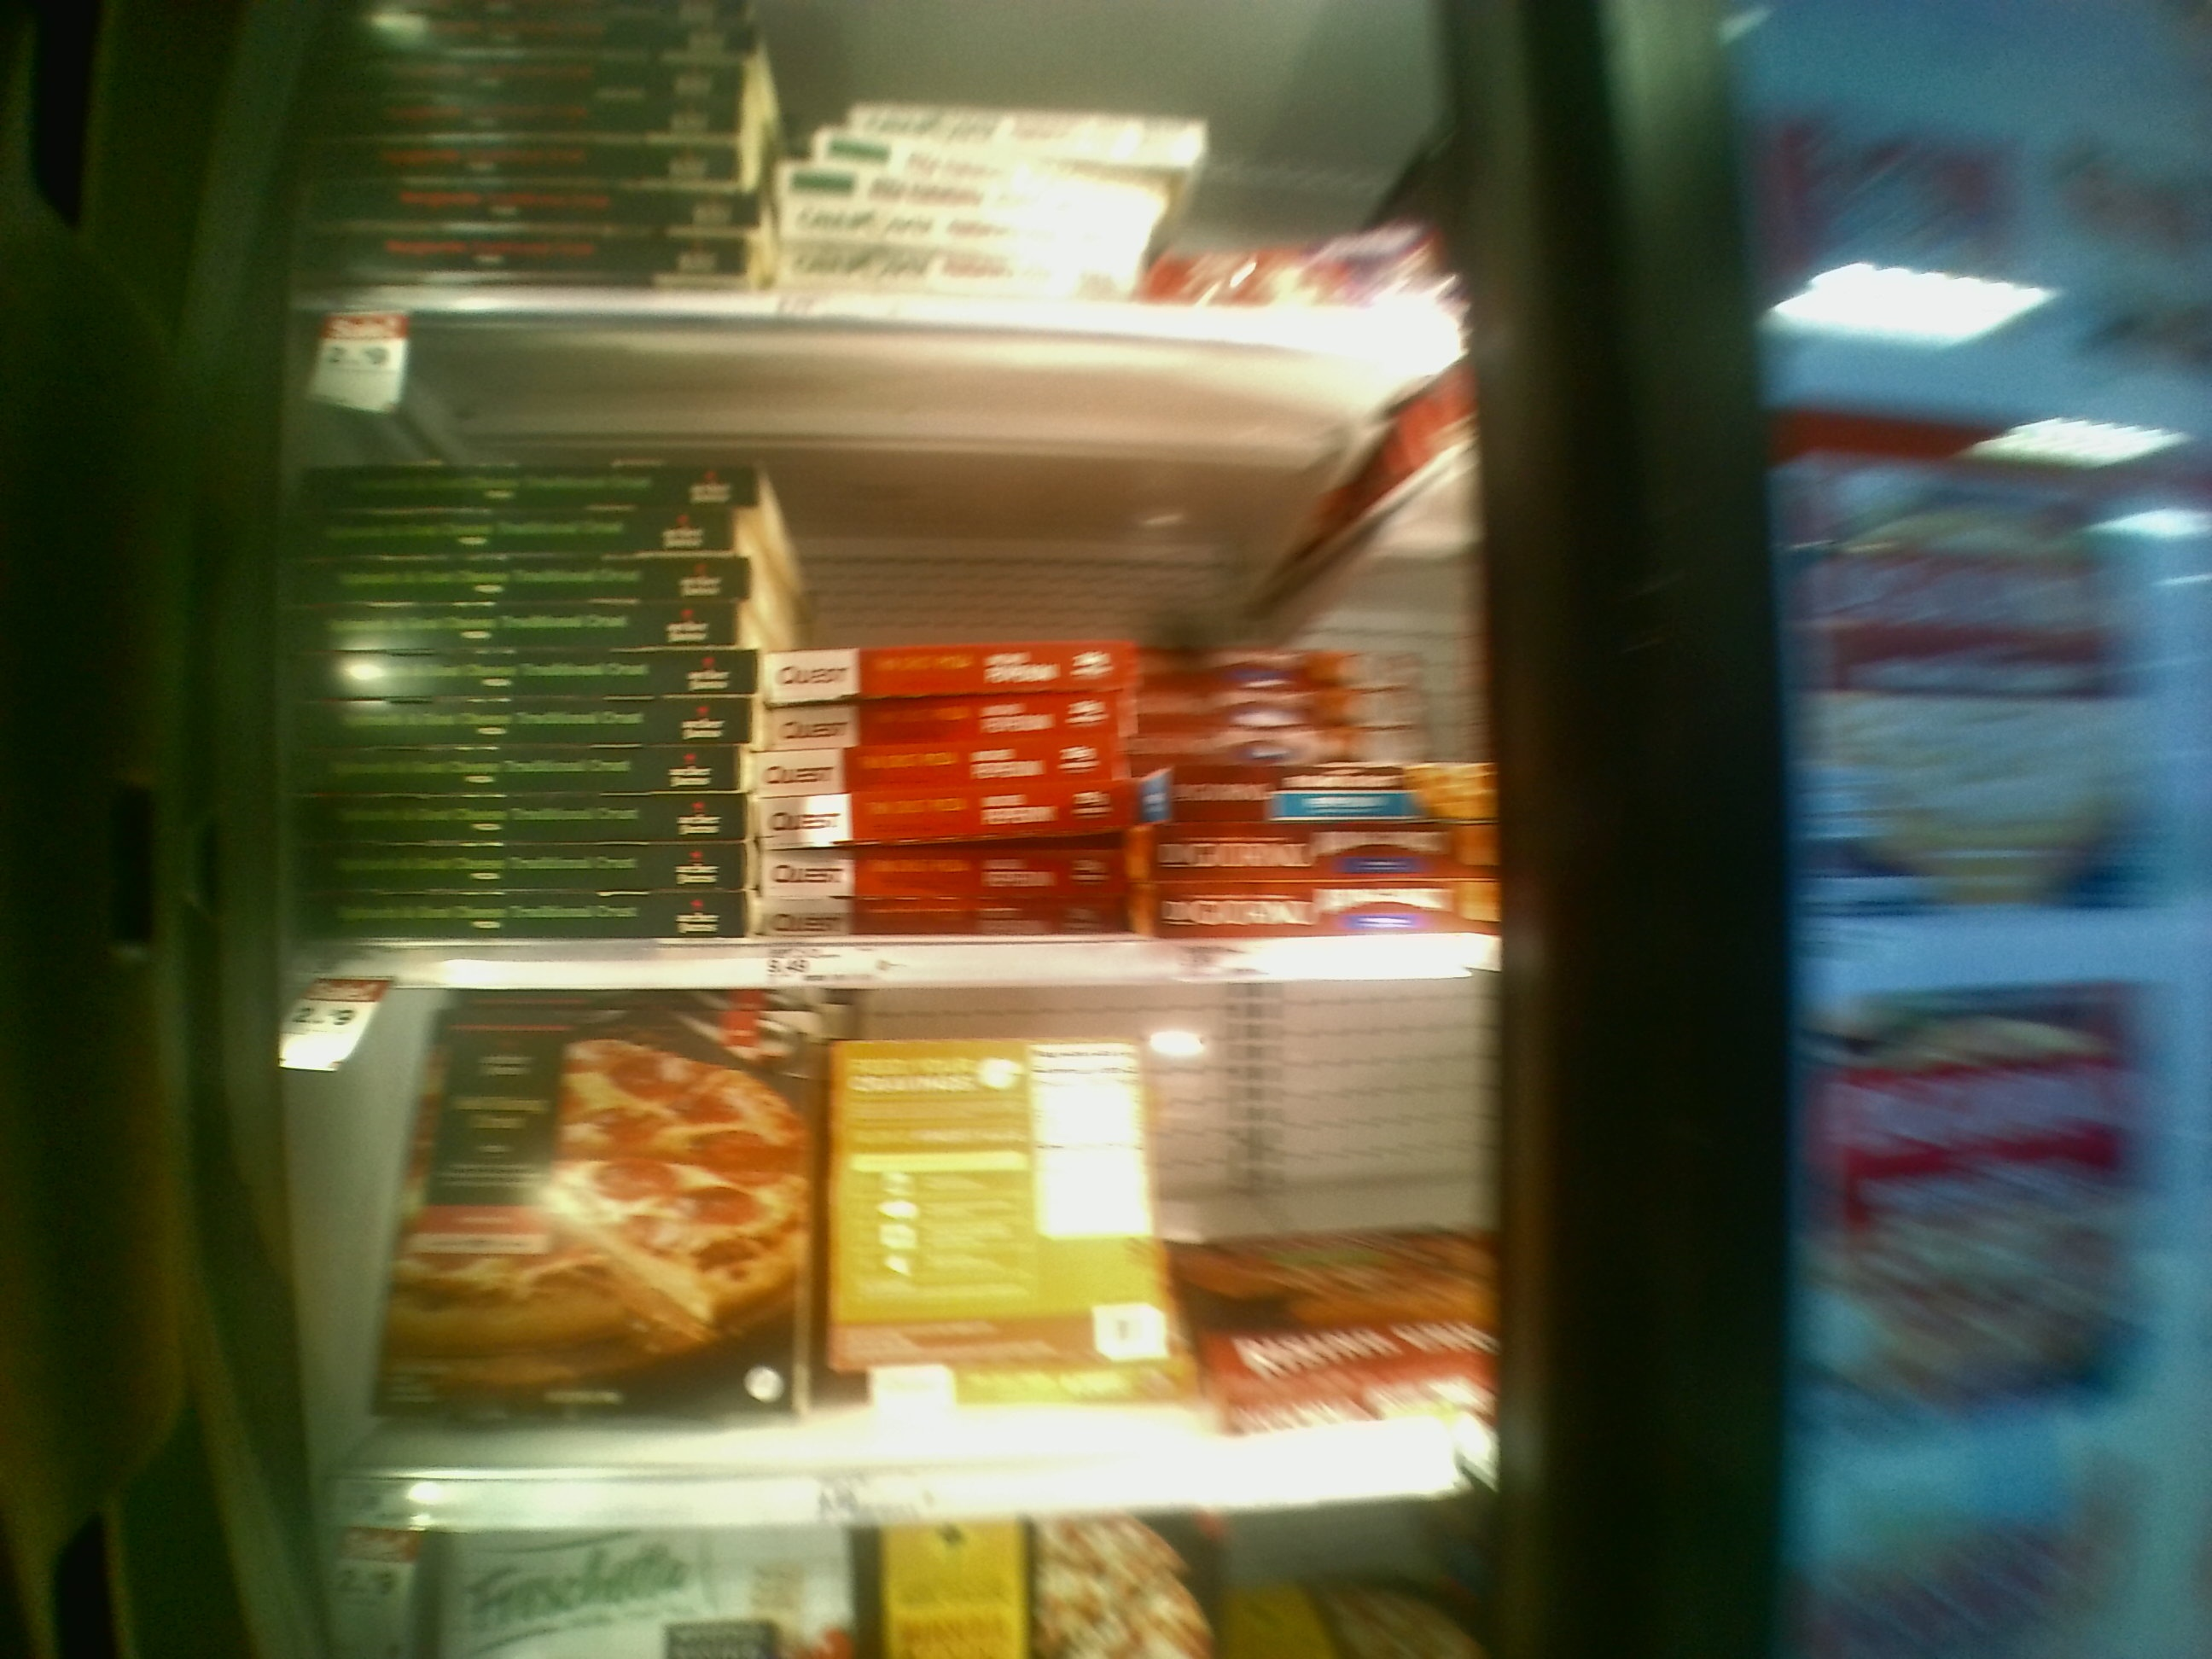shelf: (282, 308, 1514, 983), (279, 988, 1500, 1532)
